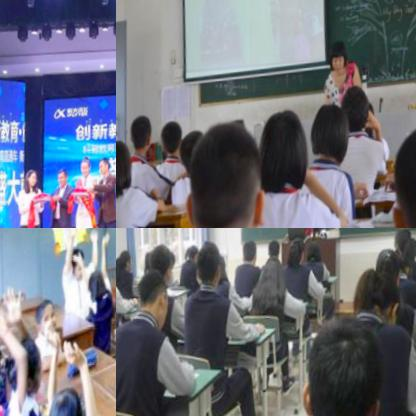head: (184, 114, 274, 228), (295, 312, 392, 416), (256, 104, 314, 189), (359, 270, 409, 336), (310, 96, 354, 167), (388, 119, 416, 222), (6, 328, 47, 398), (135, 267, 173, 331), (337, 83, 373, 136), (177, 126, 212, 176), (373, 244, 407, 294), (193, 240, 225, 289), (144, 241, 173, 290), (128, 112, 157, 157), (45, 387, 90, 416), (159, 117, 187, 162), (36, 296, 62, 343), (259, 253, 287, 296), (116, 139, 136, 198), (327, 42, 351, 77), (179, 258, 202, 293), (286, 238, 309, 271), (69, 244, 88, 282), (392, 228, 415, 259), (86, 267, 107, 300), (240, 238, 260, 267), (116, 246, 135, 273), (266, 238, 283, 265), (307, 240, 325, 264), (184, 241, 201, 265), (24, 169, 39, 193), (99, 156, 113, 177), (79, 159, 92, 177), (56, 170, 69, 186)
